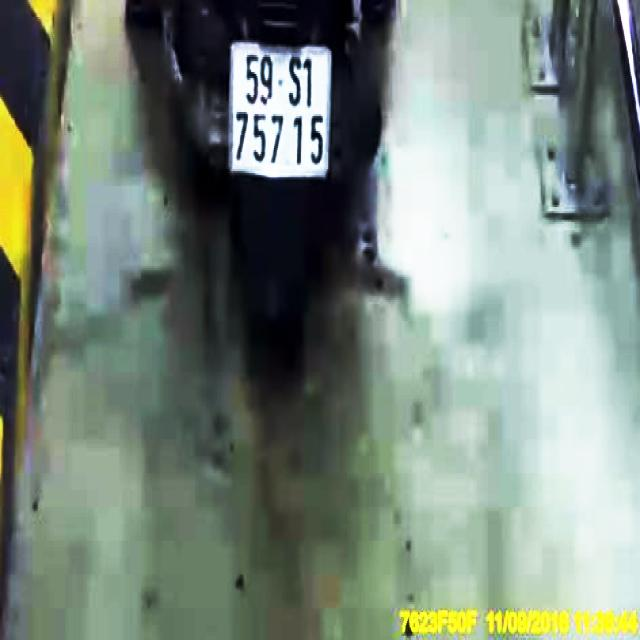license_plate: (231, 45, 331, 175)
